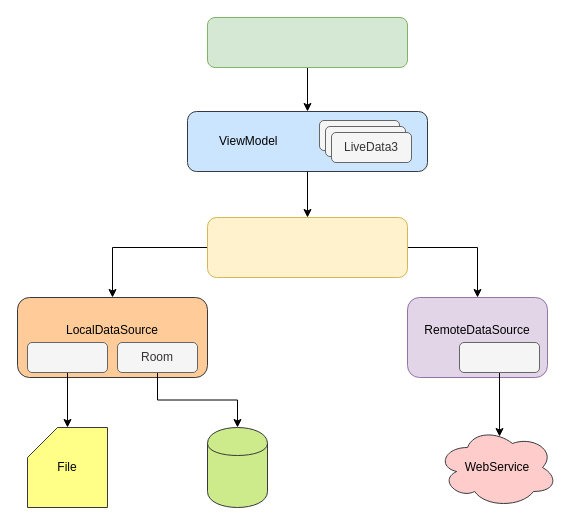
Image size: 575x525. Some labels were removed from this diagram. Each missing label, with the centre of its shape:
"ACache" belongs at point 67,357.
"Activity / Fragment" belongs at point 307,42.
"Repository" belongs at point 307,247.
"Retrofit" belongs at point 499,357.
"SQLite" belongs at point 237,467.
